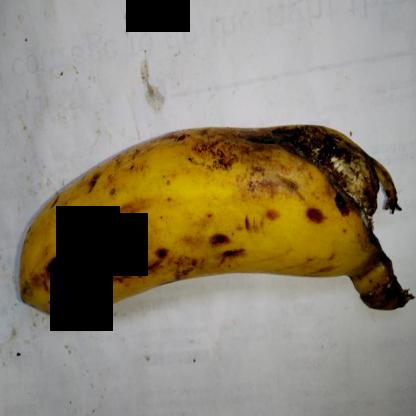ripe: (12, 114, 278, 332)
rotten: (253, 106, 398, 302)
